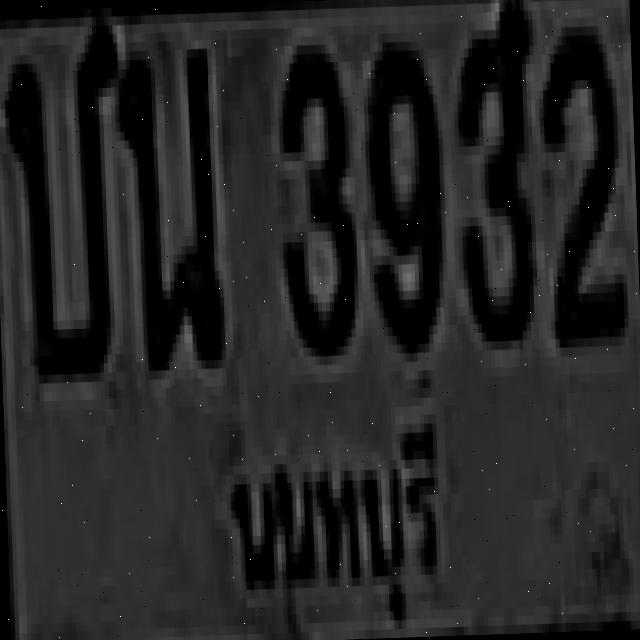2: (536, 16, 620, 338)
3: (450, 0, 539, 337), (272, 35, 356, 348)
34NorNu: (114, 35, 219, 367)
35BorBaiMai: (0, 20, 115, 379)
9: (361, 32, 441, 344)
Nonthaburi: (209, 392, 460, 640)
